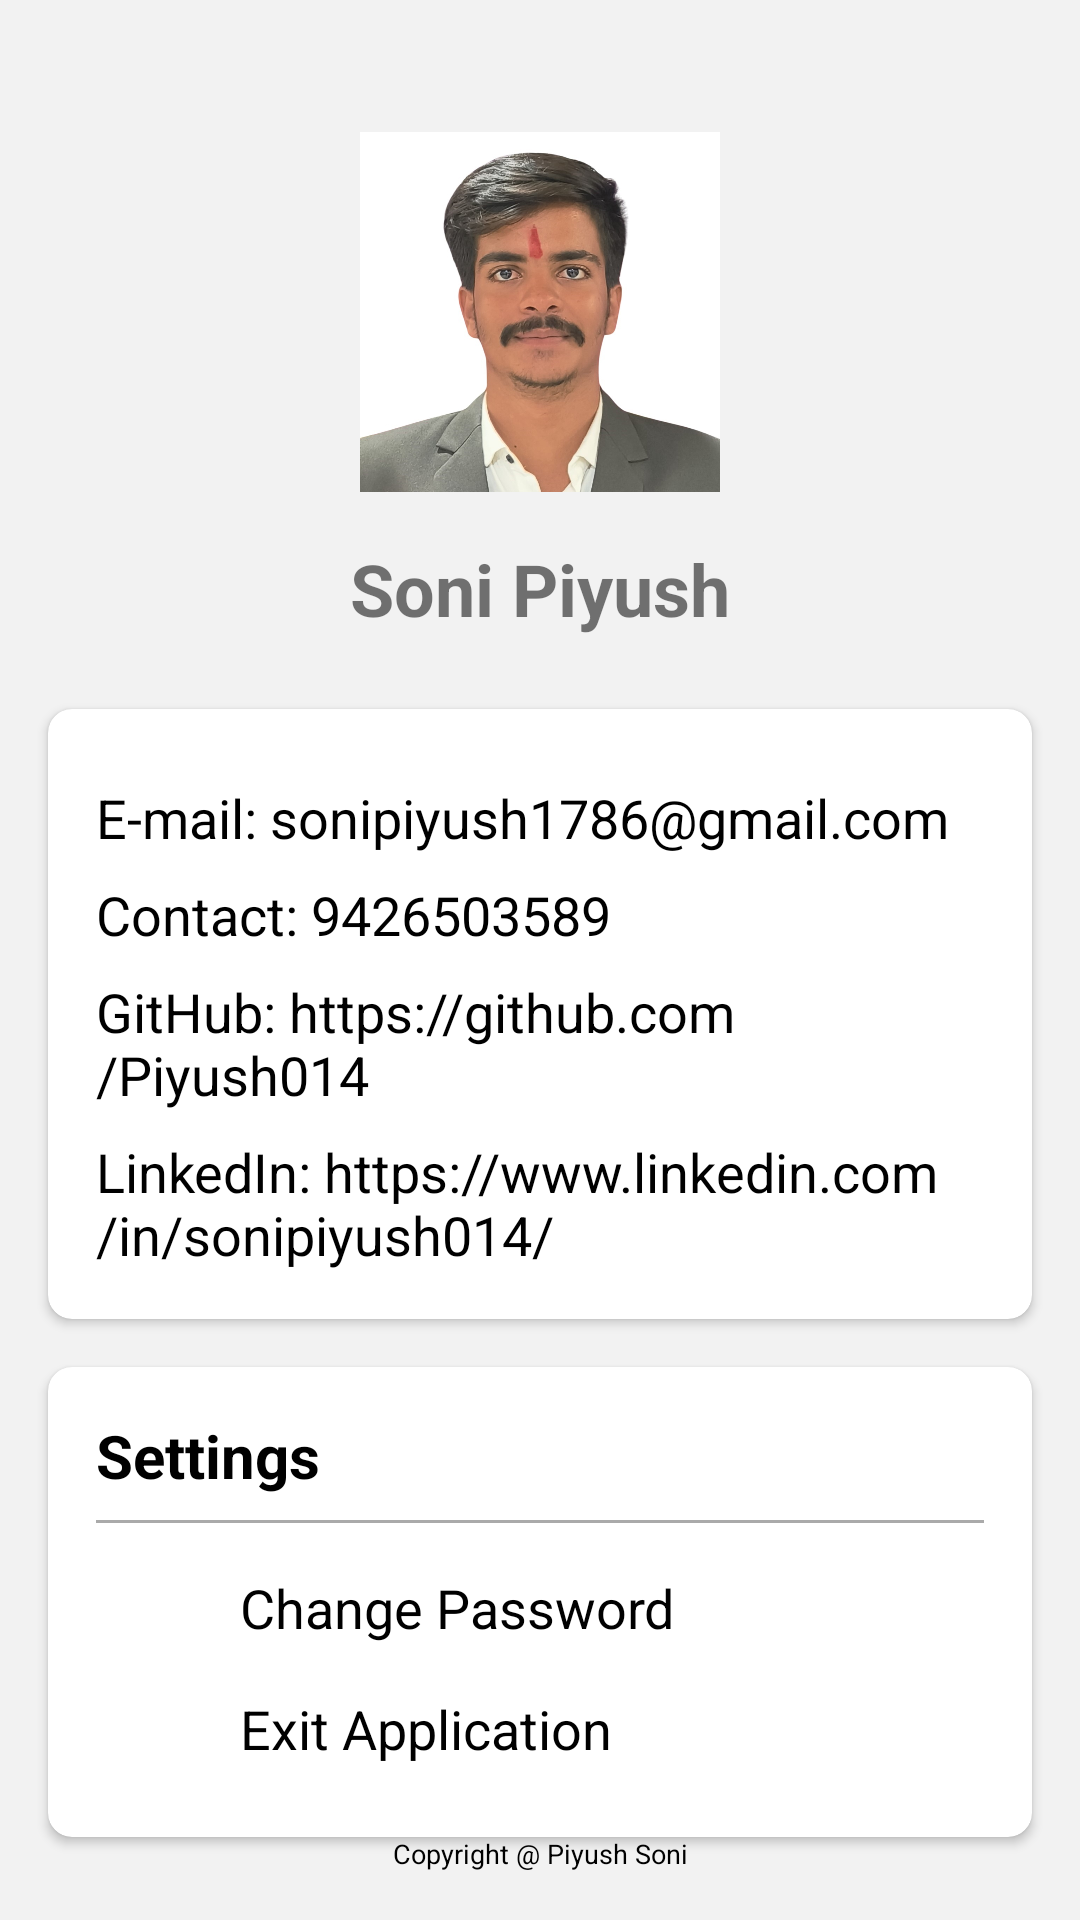

Where to tap for icons on this 1080 × 1920 app screen, as point (x, y):
profile: point (540, 322)
